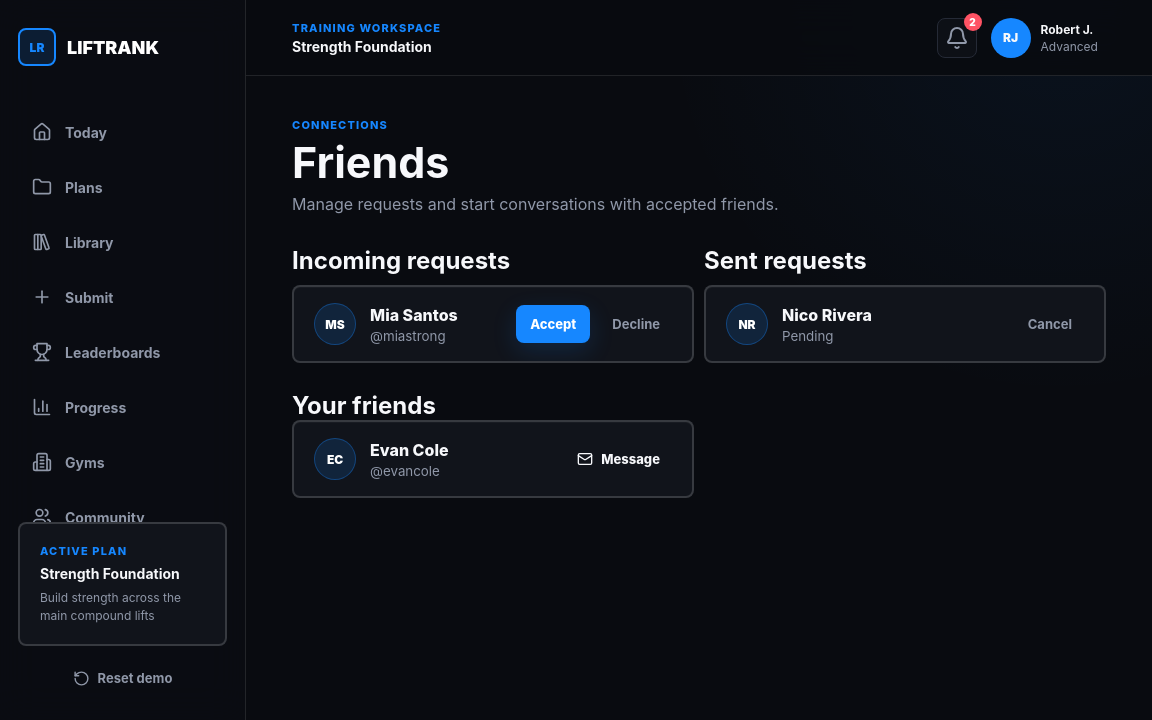
it: LiftRank tracker UI › cancels an outgoing friend request
Expected: the link "Nico Rivera" is shown, [782,305,872,325]
Click the button "Cancel" at (1050, 324), box [1016,304,1084,344]
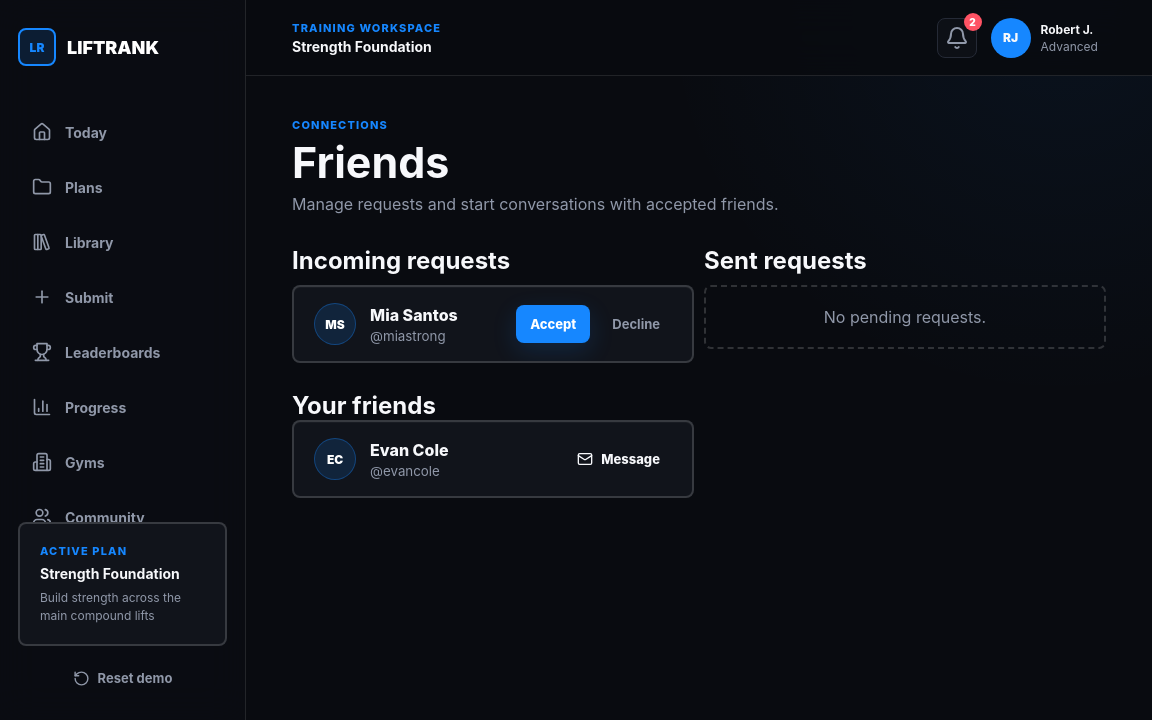
Expected: the link "Nico Rivera" is gone
